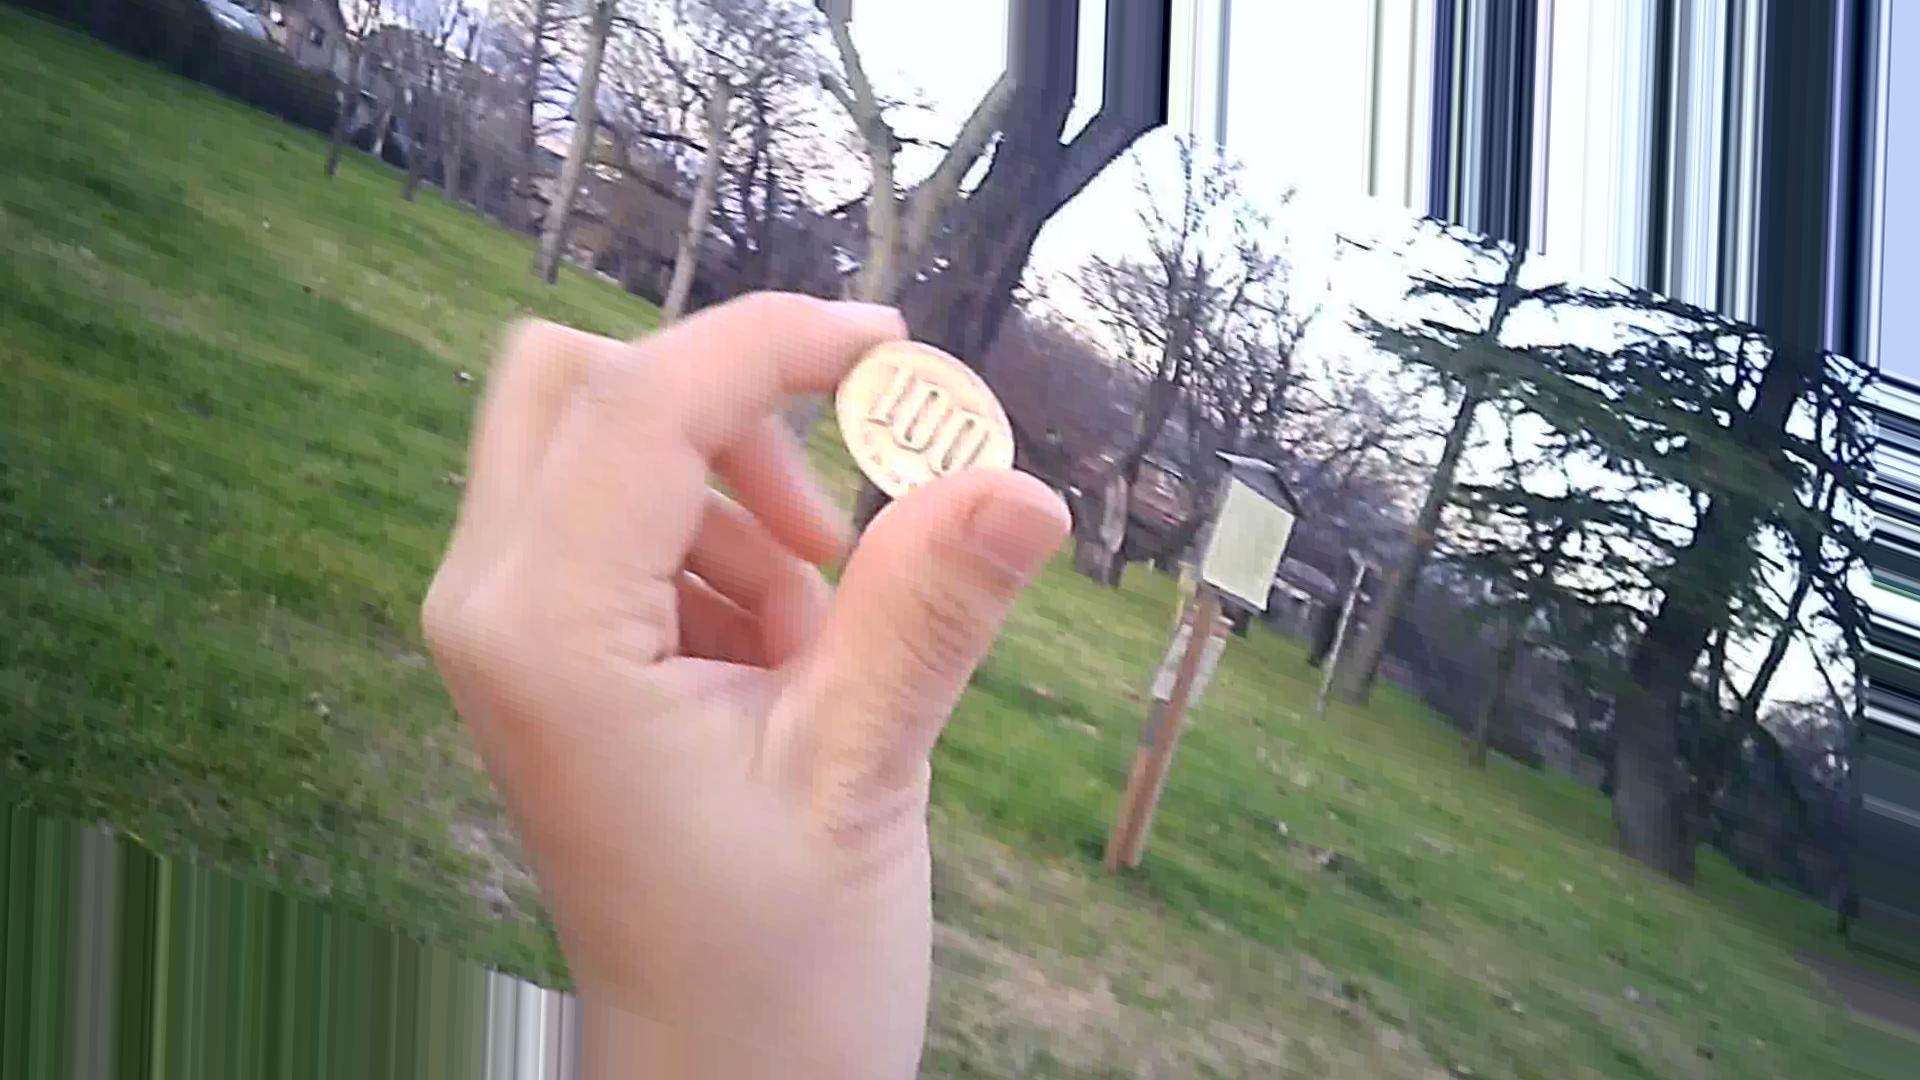100 Yen: (814, 335, 1029, 530)
